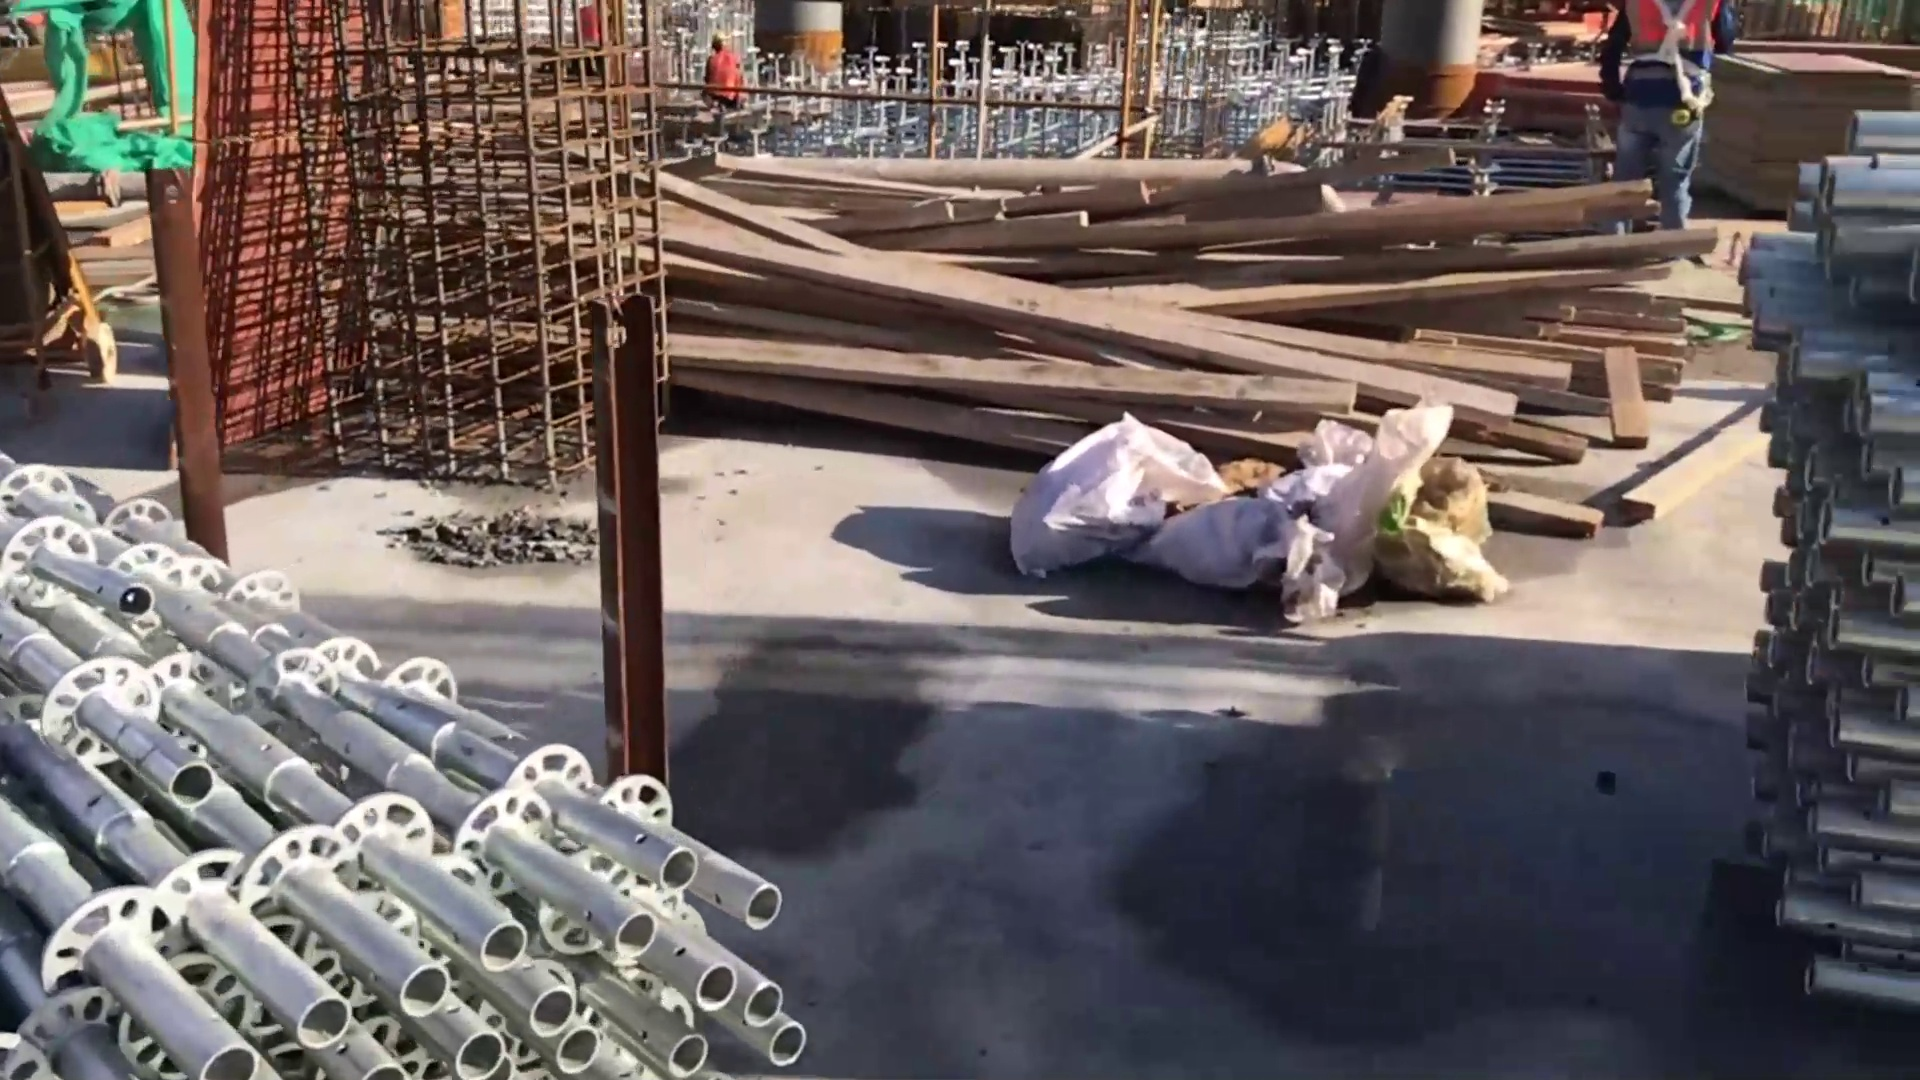person: (1585, 1, 1736, 237), (702, 26, 738, 101)
scaffold: (1, 450, 813, 1080), (1740, 104, 1920, 1025)
vest: (1610, 1, 1728, 109)
wood: (666, 129, 1705, 543)
